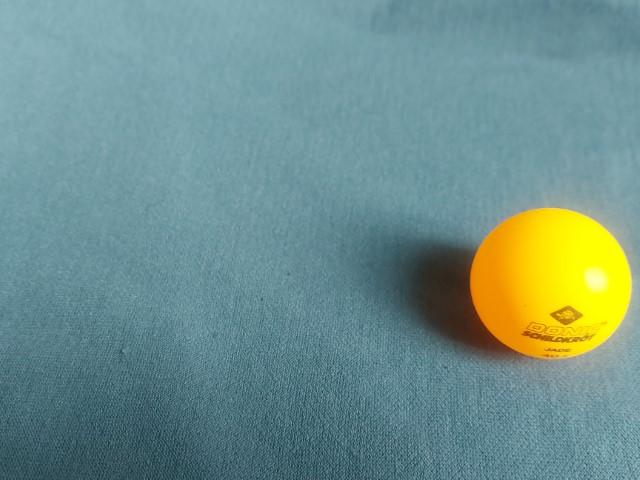oball: (466, 197, 635, 366)
